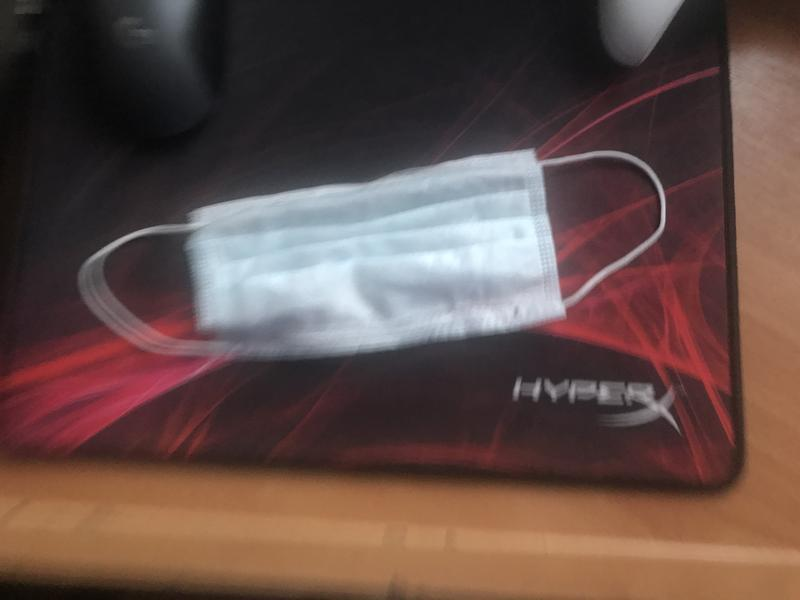medical_mask: (75, 147, 666, 355)
